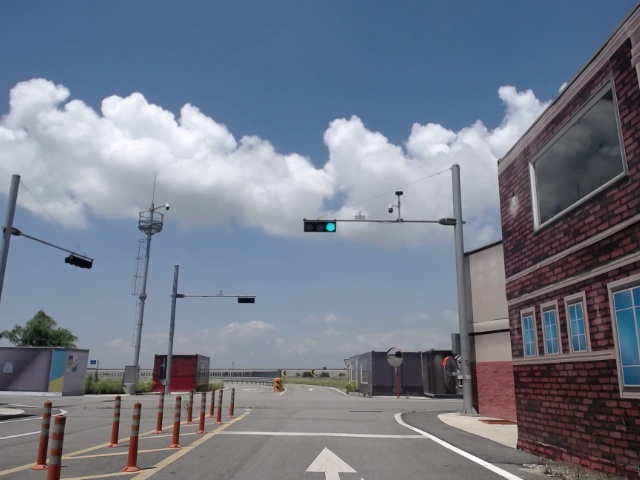green_3: (304, 220, 336, 232)
